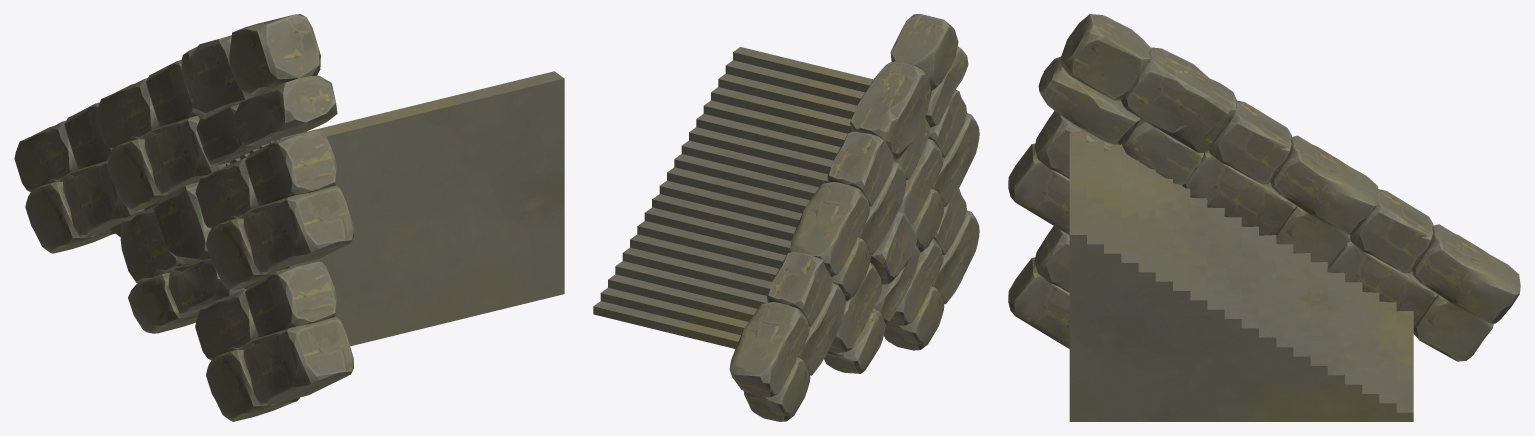
The model's file is Stairs2.fbx.
3 views of the same model, side by side, from view 1: azimuth 30°, elevation 25°; view 2: azimuth 150°, elevation 25°; view 3: azimuth 270°, elevation 25° (orthographic). The views are drawn at different scales.
Parts seen in each view (by area): view 1: Stairs (2), lowWall3 (119), lowWall3 (117), lowWall3 (114), lowWall3 (115), lowWall3 (116), lowWall3 (120); view 2: Stairs (2), lowWall3 (116), lowWall3 (115), lowWall3 (114), lowWall3 (120), lowWall3 (119), lowWall3 (117); view 3: Stairs (2), lowWall3 (114), lowWall3 (115), lowWall3 (116), lowWall3 (117), lowWall3 (119).
Boxes of the visible parts, x1,y1,x2,y2 form: Stairs (2): (109, 71, 564, 346); lowWall3 (119): (195, 261, 353, 421); lowWall3 (117): (195, 130, 353, 290); lowWall3 (114): (181, 14, 337, 165); lowWall3 (115): (96, 60, 225, 211); lowWall3 (116): (14, 102, 144, 253); lowWall3 (120): (120, 182, 244, 333); Stairs (2): (593, 47, 873, 348); lowWall3 (116): (729, 251, 845, 421); lowWall3 (115): (790, 131, 906, 301); lowWall3 (114): (850, 14, 968, 180); lowWall3 (120): (824, 211, 920, 373); lowWall3 (119): (884, 188, 979, 350); lowWall3 (117): (898, 90, 979, 252); Stairs (2): (1069, 128, 1413, 421); lowWall3 (114): (1038, 14, 1236, 184); lowWall3 (115): (1182, 100, 1378, 267); lowWall3 (116): (1327, 189, 1520, 361); lowWall3 (117): (1008, 110, 1155, 235); lowWall3 (119): (1008, 226, 1069, 348).
Bounding box in the file's own units: 8.83 × 11.8 × 14.89.
3 materials, 3 textured.
